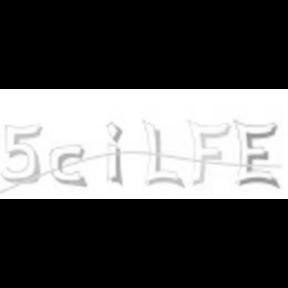5: (0, 124, 44, 184)
E: (233, 118, 281, 190)
F: (186, 118, 232, 188)
I: (106, 120, 124, 186)
L: (141, 115, 185, 191)
c: (48, 144, 88, 188)
